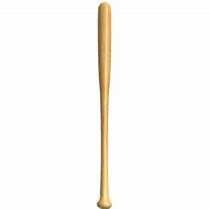bat: (96, 1, 113, 209)
